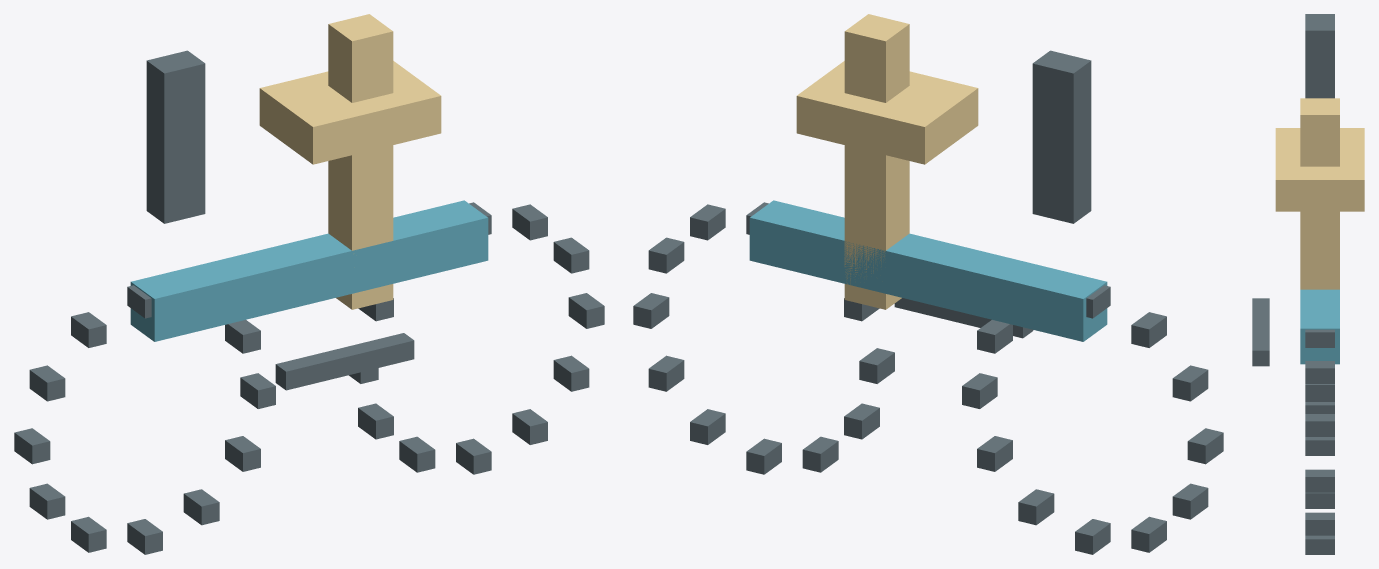
The model's file is bike.gltf.
3 views of the same model, side by side, from view 1: azimuth 30°, elevation 25°; view 2: azimuth 150°, elevation 25°; view 3: azimuth 270°, elevation 25° (orthographic). The views are drawn at different scales.
Parts seen in each view (by area): view 1: frame, bar, seat, handlebar, pedal, wheelA_7, wheelA_10, wheelB_1, wheelB_8, wheelB_11, wheelB_0, wheelA_5 (+11 smaller); view 2: frame, bar, seat, handlebar, pedal, wheelA_7, wheelA_10, wheelB_1, wheelB_8, wheelB_11, wheelB_0, wheelA_5 (+12 smaller); view 3: seat, bar, handlebar, frame, pedal, wheelB_0, wheelB_11, wheelB_1, wheelB_2, wheelB_10, wheelB_3, wheelB_7 (+3 smaller).
Part boxes in pixels (box(x1,y1,x2,y2)): frame: box(130, 200, 488, 341); bar: box(328, 14, 393, 309); seat: box(259, 61, 441, 164); handlebar: box(146, 50, 205, 223); pedal: box(275, 333, 414, 390); wheelA_7: box(29, 483, 65, 519); wheelA_10: box(183, 489, 219, 525); wheelB_1: box(553, 237, 589, 273); wheelB_8: box(399, 436, 435, 472); wheelB_11: box(553, 355, 589, 391); wheelB_0: box(568, 293, 604, 328); wheelA_5: box(29, 365, 65, 401); frame: box(749, 200, 1107, 341); bar: box(844, 14, 909, 309); seat: box(796, 61, 978, 164); handlebar: box(1032, 50, 1091, 223); pedal: box(894, 298, 1033, 338); wheelA_7: box(1172, 483, 1208, 519); wheelA_10: box(1018, 489, 1054, 525); wheelB_1: box(648, 237, 684, 273); wheelB_8: box(802, 436, 838, 472); wheelB_11: box(648, 355, 684, 391); wheelB_0: box(633, 293, 669, 328); wheelA_5: box(1172, 365, 1208, 401); seat: box(1275, 128, 1364, 211); bar: box(1300, 98, 1339, 289); handlebar: box(1305, 14, 1334, 98); frame: box(1300, 289, 1339, 364); pedal: box(1252, 298, 1269, 366); wheelB_0: box(1305, 469, 1334, 492); wheelB_11: box(1305, 512, 1334, 535); wheelB_1: box(1305, 414, 1334, 436); wheelB_2: box(1305, 361, 1334, 383); wheelB_10: box(1305, 535, 1334, 554); wheelB_3: box(1305, 329, 1334, 347); wheelB_7: box(1305, 437, 1334, 455).
Size of the model in its own units: 1.11 by 0.8875 by 0.2275.
